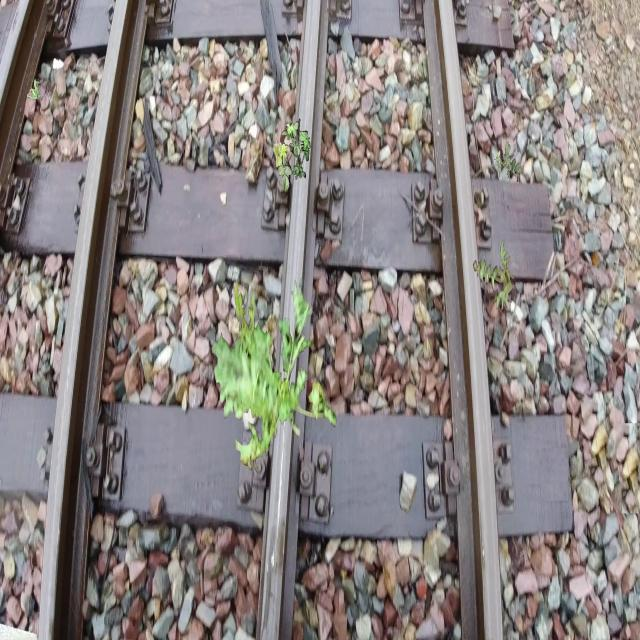Plant: (212, 277, 337, 473), (473, 239, 514, 310), (273, 119, 310, 192), (494, 141, 522, 182), (27, 79, 41, 100)
